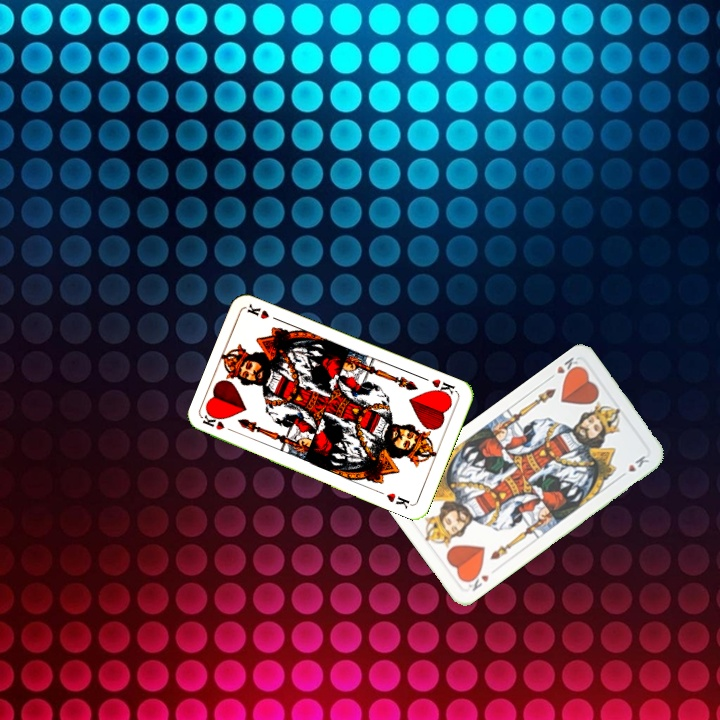HK: (544, 353, 584, 383), (199, 411, 239, 435), (463, 567, 492, 594), (428, 375, 459, 400)
